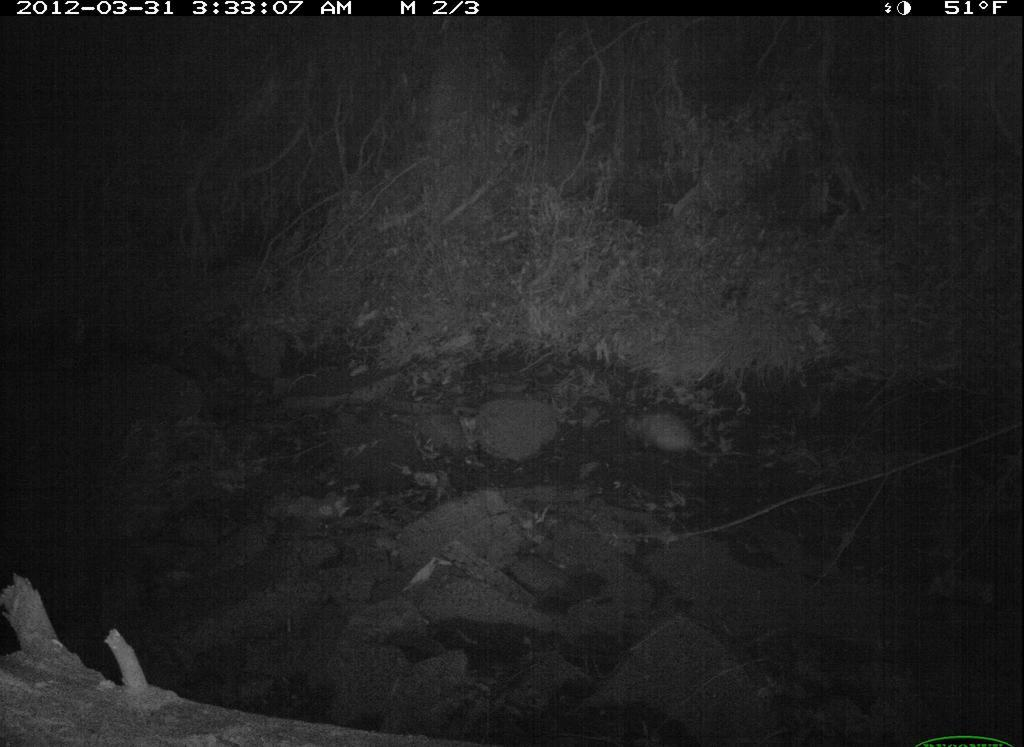opossum: (620, 401, 739, 472)
